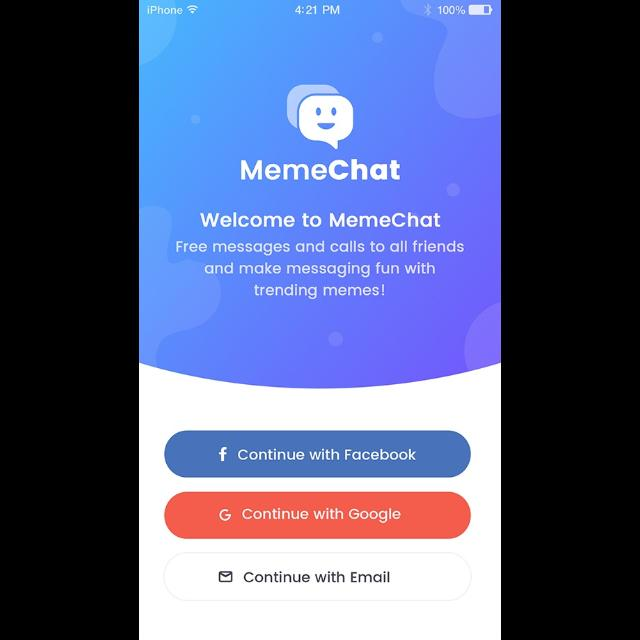image: (286, 85, 356, 151)
text: (177, 240, 466, 300), (200, 211, 442, 229), (240, 158, 402, 182)
textbutton: (164, 430, 472, 478), (164, 552, 472, 600), (165, 492, 472, 540)
uppertaskbar: (140, 1, 502, 18)
